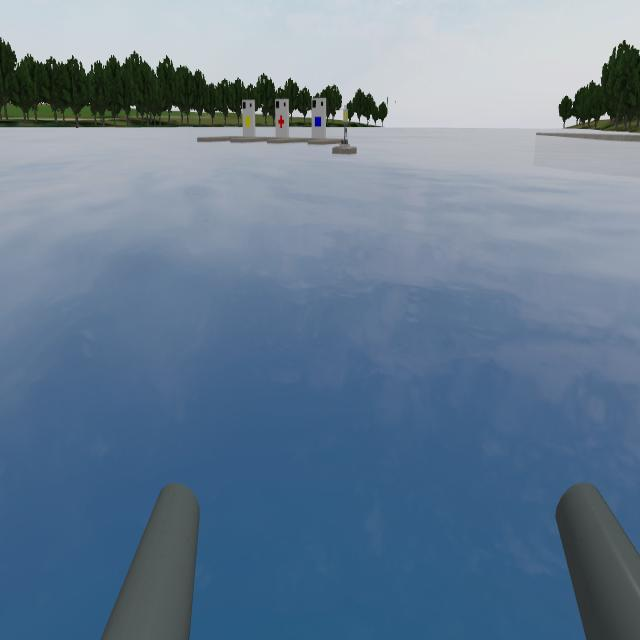yellow_pole: (337, 105, 355, 135)
